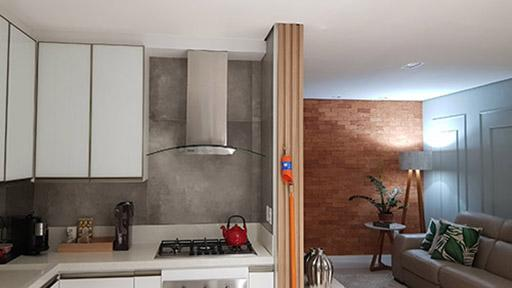Detector_Tensao_Contato: (280, 145, 294, 186)
Vara_Manobra: (287, 184, 297, 288)
